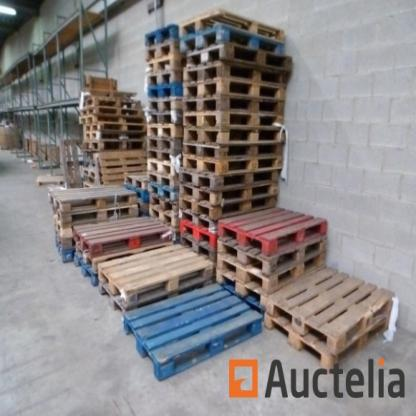BoxFace: (122, 278, 263, 384), (266, 265, 395, 356), (94, 241, 213, 308), (218, 206, 328, 256), (215, 231, 326, 276), (71, 214, 176, 256), (182, 61, 286, 85), (182, 97, 285, 114)
